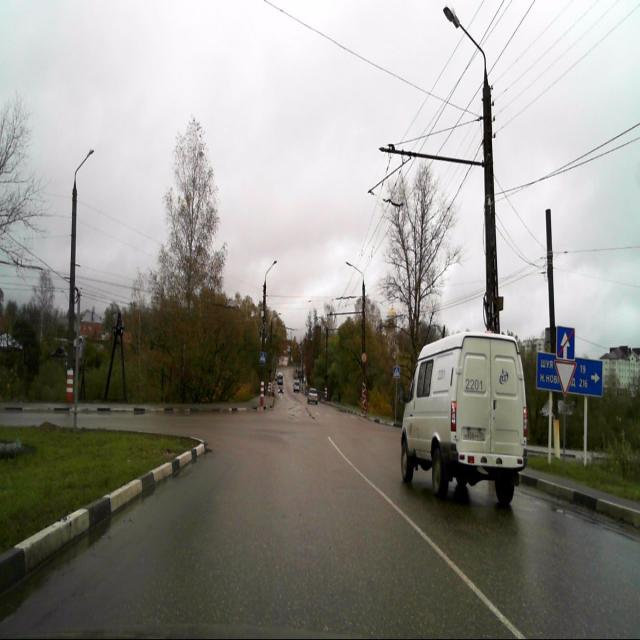road sign: (554, 359, 576, 402), (554, 324, 575, 362)
